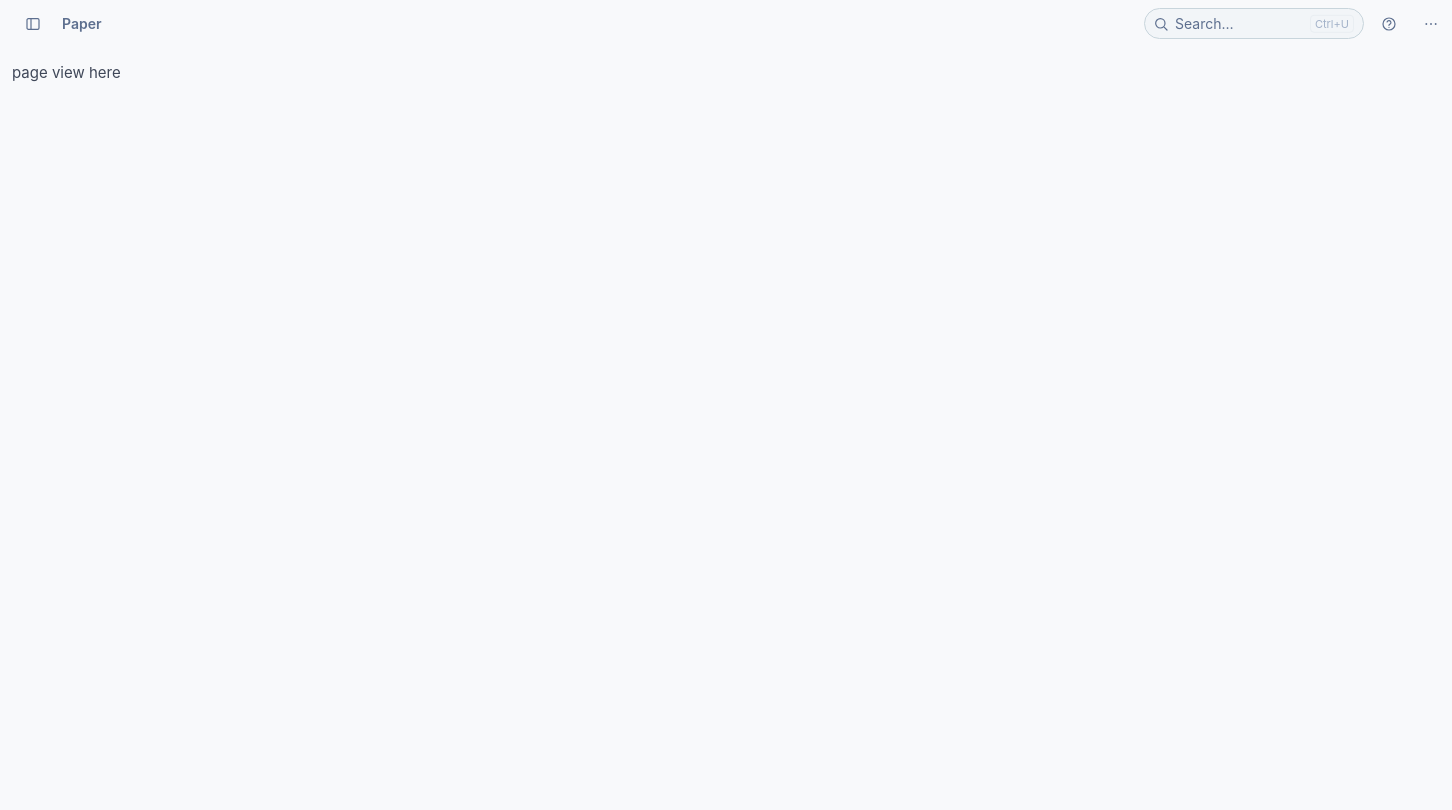
Test case: closes the menu on outside click
Click the button named "Page menu" at (1431, 24), box [1414, 10, 1448, 38]
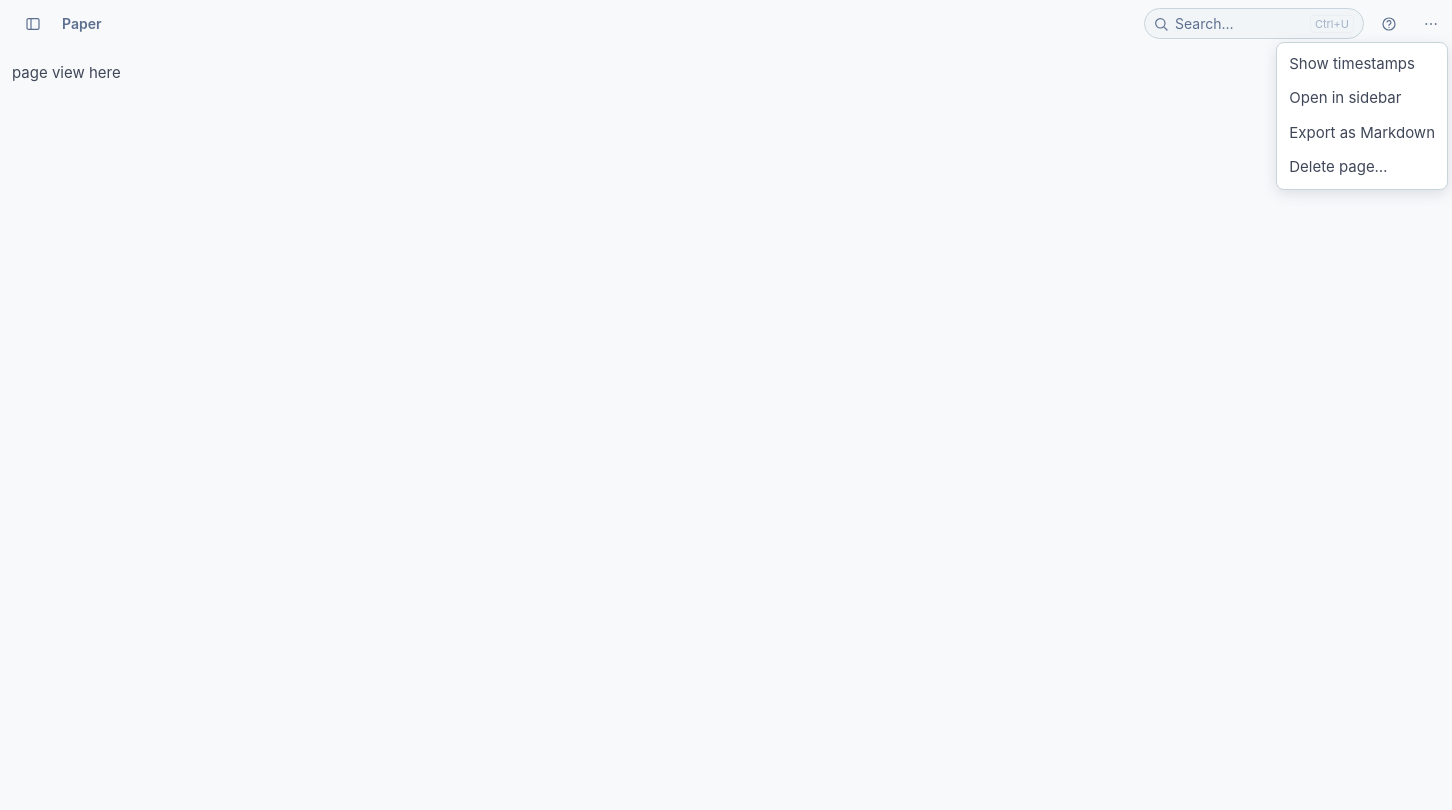
Expected: the menu is shown, [1276, 42, 1448, 190]
Press the mouse on the element that starts with "Paper" at (732, 405), box [12, 0, 1451, 809]
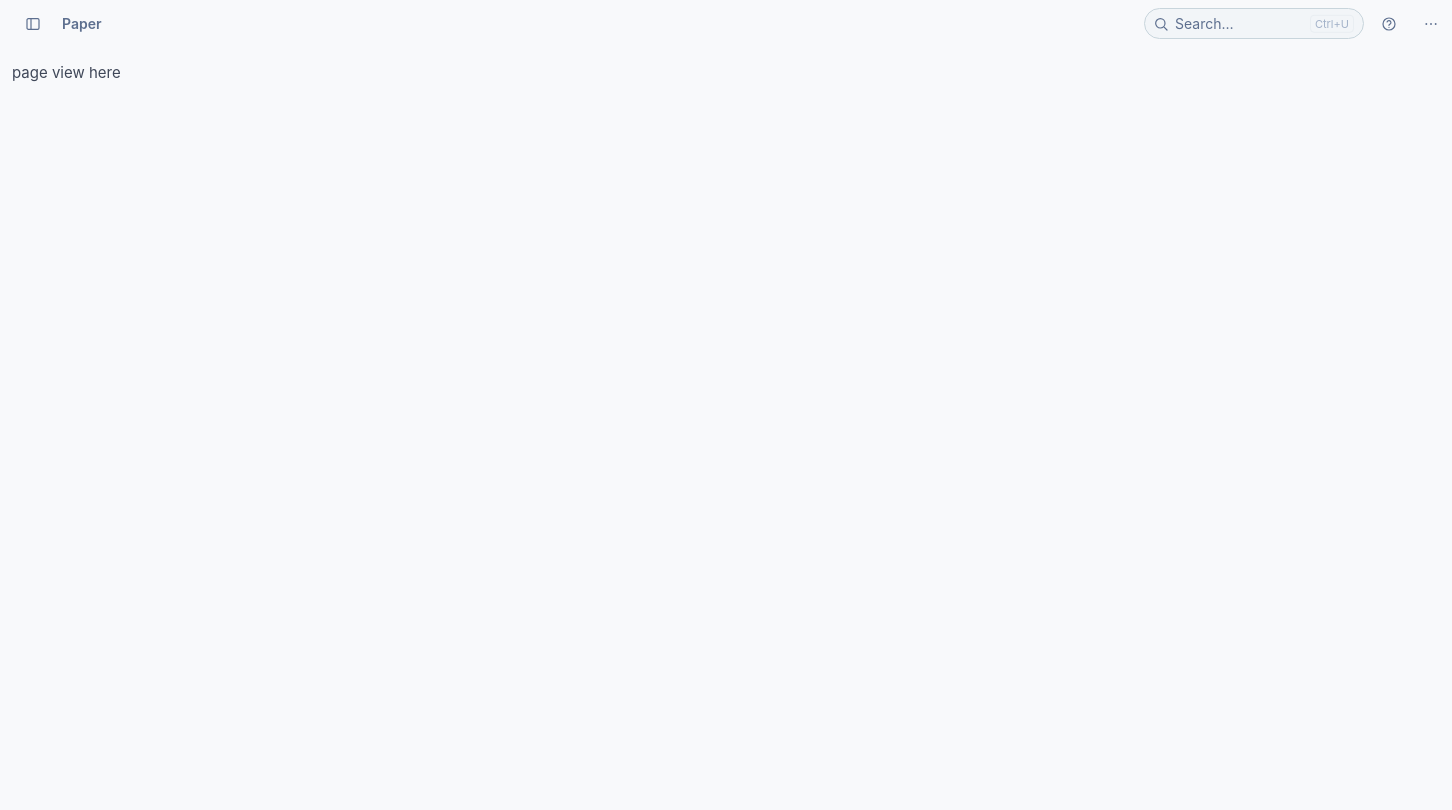
Expected: the menu is gone
